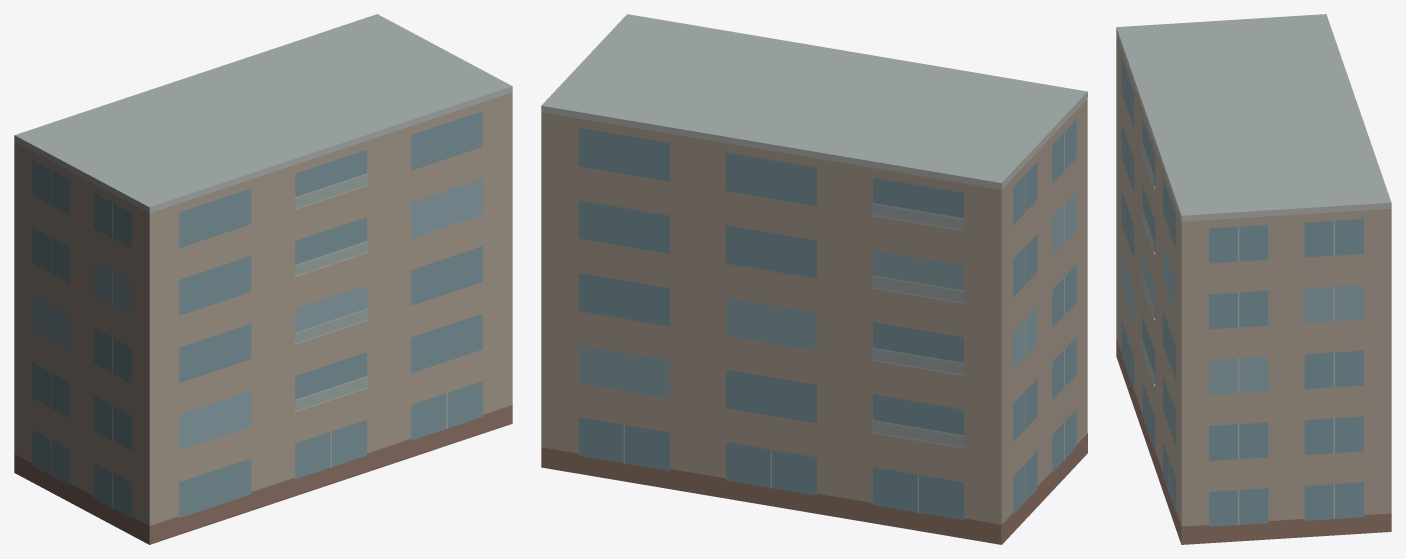
Rendered from survey-upis-32945625.glb.
3 renders of one model, left to right at view 1: azimuth 30°, elevation 25°; view 2: azimuth 150°, elevation 25°; view 3: azimuth 270°, elevation 25°, orthographic. The views are drawn at different scales.
Parts seen in each view (by area): view 1: survey-upis-32945625.tmp; view 2: survey-upis-32945625.tmp; view 3: survey-upis-32945625.tmp.
Boxes of the visible parts, x1,y1,x2,y2 form: survey-upis-32945625.tmp: (14,14,512,544); survey-upis-32945625.tmp: (541,14,1087,544); survey-upis-32945625.tmp: (1116,14,1391,544).
Bounding box in the file's own units: 17.62 × 13.4 × 10.16.
